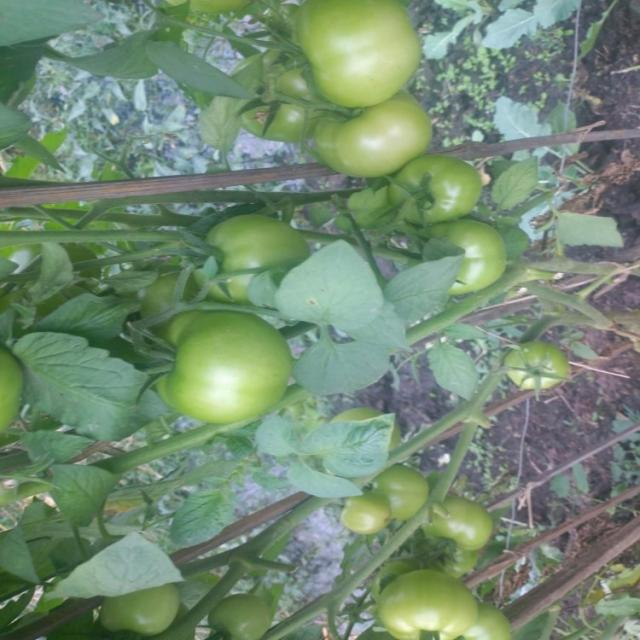tomato: (160, 302, 292, 427), (278, 1, 429, 109), (307, 92, 446, 175), (203, 203, 308, 302), (413, 206, 522, 292), (364, 566, 484, 640), (387, 140, 475, 234), (232, 60, 308, 160), (429, 487, 504, 568), (109, 580, 190, 638), (501, 331, 569, 400), (210, 585, 273, 640), (375, 464, 436, 519), (329, 488, 390, 540), (462, 583, 515, 640), (1, 334, 23, 434)
